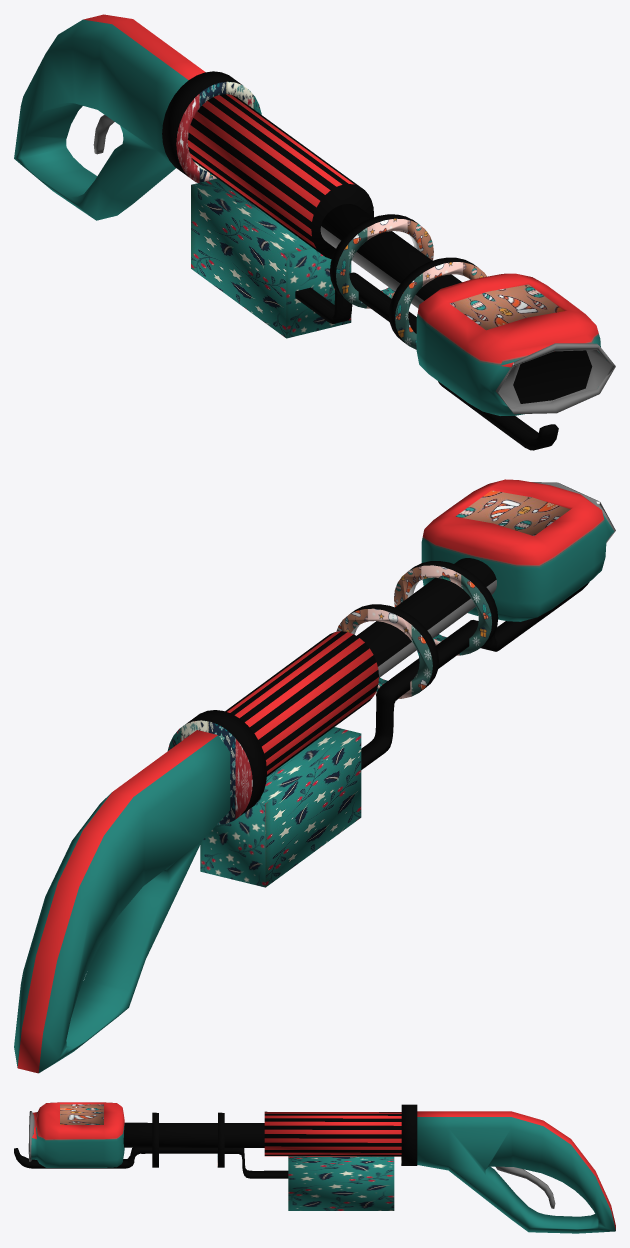
File: Lanzallamas final.fbx
3 views of the same model, one above another, from view 1: azimuth 30°, elevation 25°; view 2: azimuth 150°, elevation 25°; view 3: azimuth 270°, elevation 25° (orthographic). The views are drawn at different scales.
Visible parts, largest first — view 1: Cube.002; view 2: Cube.002; view 3: Cube.002.
Boxes of the visible parts, x1,y1,x2,y2 form: Cube.002: (14, 14, 615, 450); Cube.002: (14, 479, 615, 1073); Cube.002: (14, 1102, 615, 1233).
Bounding box in the file's own units: 200 × 344 × 1524.
Materials: 1 (1 with a texture image).
